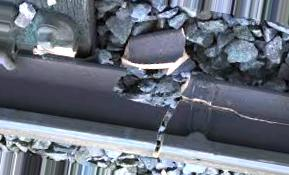tracks_fault: (125, 27, 198, 163)
